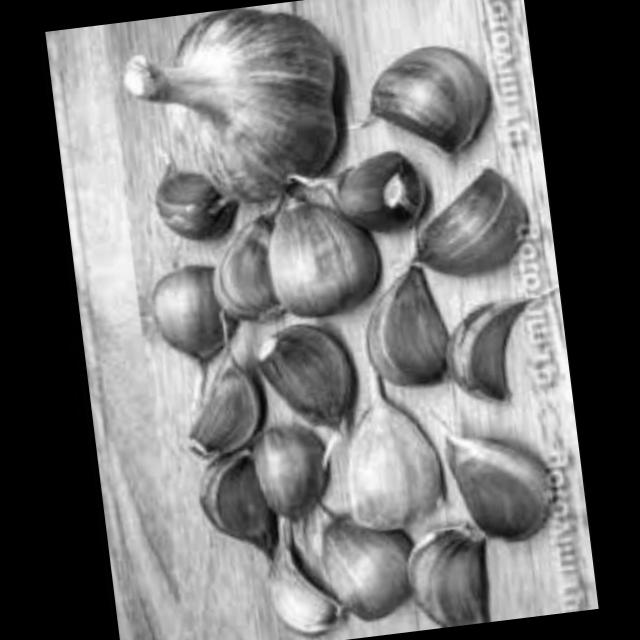garlic: (115, 0, 347, 225), (342, 18, 518, 180), (422, 395, 568, 559), (334, 346, 444, 544), (236, 180, 376, 330), (240, 308, 367, 459), (394, 153, 532, 287), (306, 499, 422, 636), (134, 253, 237, 402), (184, 434, 293, 572), (346, 256, 454, 392), (430, 282, 534, 418), (294, 140, 416, 242), (228, 418, 334, 533), (241, 523, 343, 640), (189, 210, 286, 332), (172, 341, 258, 467), (402, 520, 494, 630)
